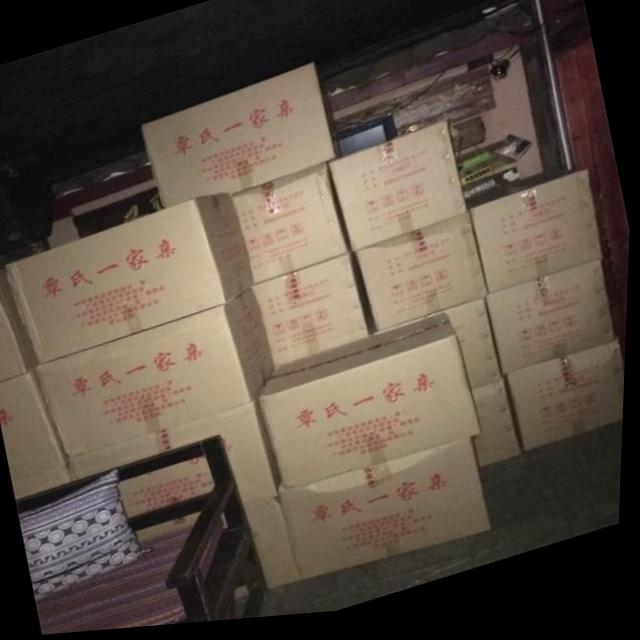box: (72, 403, 305, 592), (5, 198, 258, 365), (39, 291, 276, 459), (261, 319, 485, 492), (281, 441, 496, 585), (143, 66, 344, 212), (331, 129, 466, 257), (470, 175, 607, 297), (357, 219, 493, 334), (241, 166, 357, 288), (503, 346, 628, 459), (495, 269, 619, 380), (258, 260, 374, 371), (0, 372, 72, 482), (440, 305, 509, 399), (125, 460, 218, 523), (471, 386, 527, 474), (0, 266, 37, 381), (19, 463, 80, 499)
